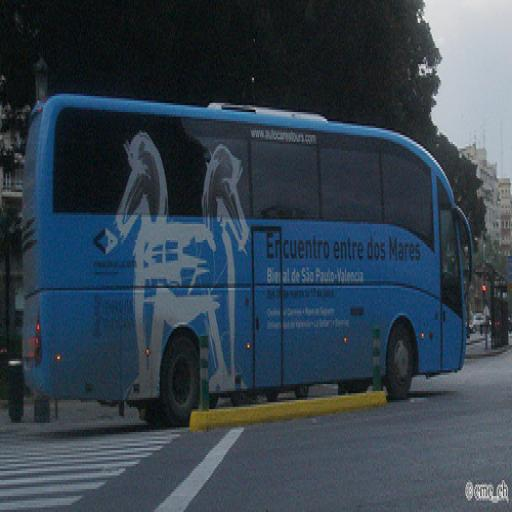bus: (21, 84, 473, 423)
car: (468, 311, 491, 336)
person: (482, 293, 492, 361)
